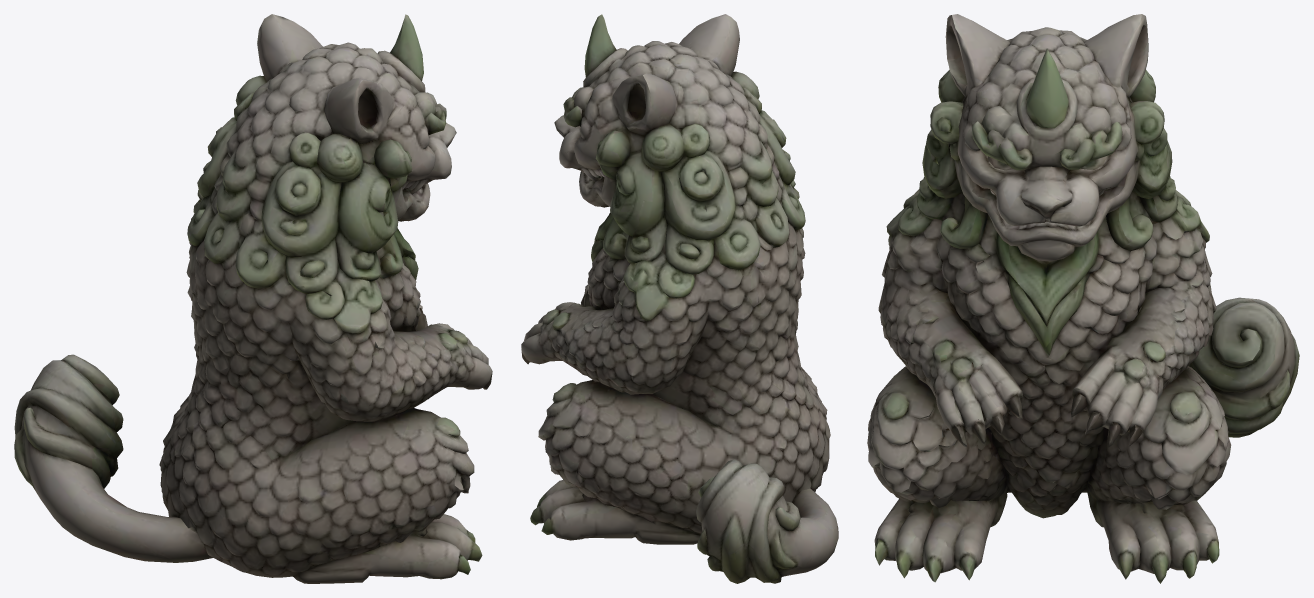
Rendered from haetae.glb.
3 renders of one model, left to right at view 1: azimuth 30°, elevation 25°; view 2: azimuth 150°, elevation 25°; view 3: azimuth 270°, elevation 25°, orthographic. The views are drawn at different scales.
Parts seen in each view (by area): view 1: geometry_0; view 2: geometry_0; view 3: geometry_0.
Part boxes in pixels (<box>): geometry_0: <box>14,14,492,583</box>; geometry_0: <box>521,14,838,583</box>; geometry_0: <box>867,14,1299,583</box>.
Size of the model in its own units: 0.7197 by 0.996 by 0.7382.
Materials: 1 (1 with a texture image).
